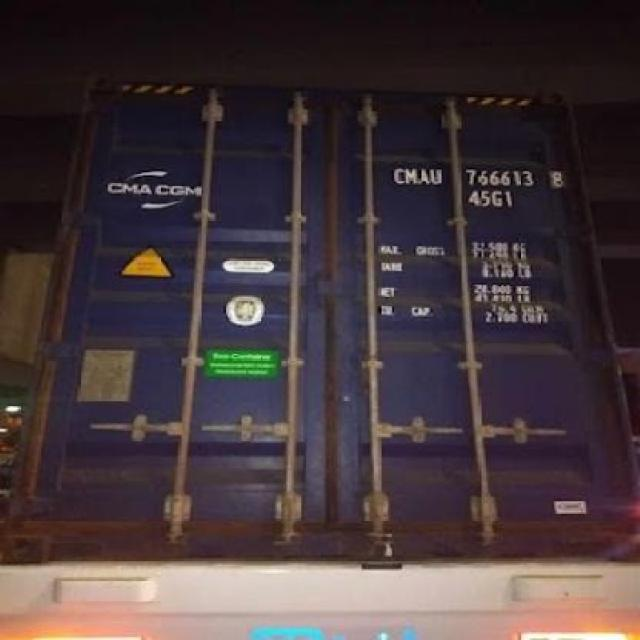ISO: (468, 188, 514, 209)
container_number: (398, 166, 564, 190)
